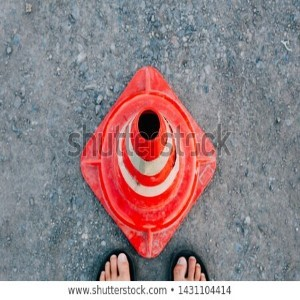traffic cone: (80, 66, 217, 259)
